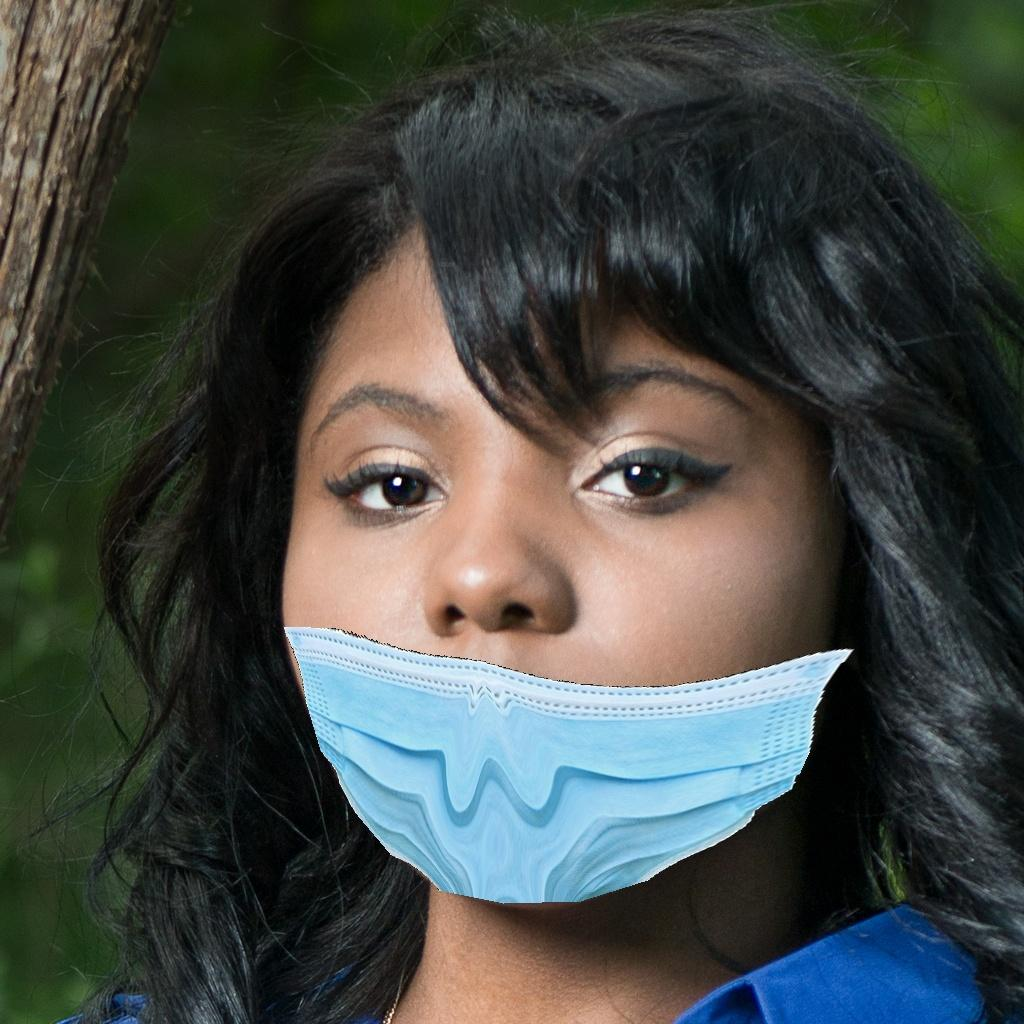Máscara Incorreta: (301, 280, 823, 870)
